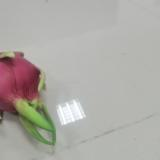pitaya: (1, 50, 57, 147)
